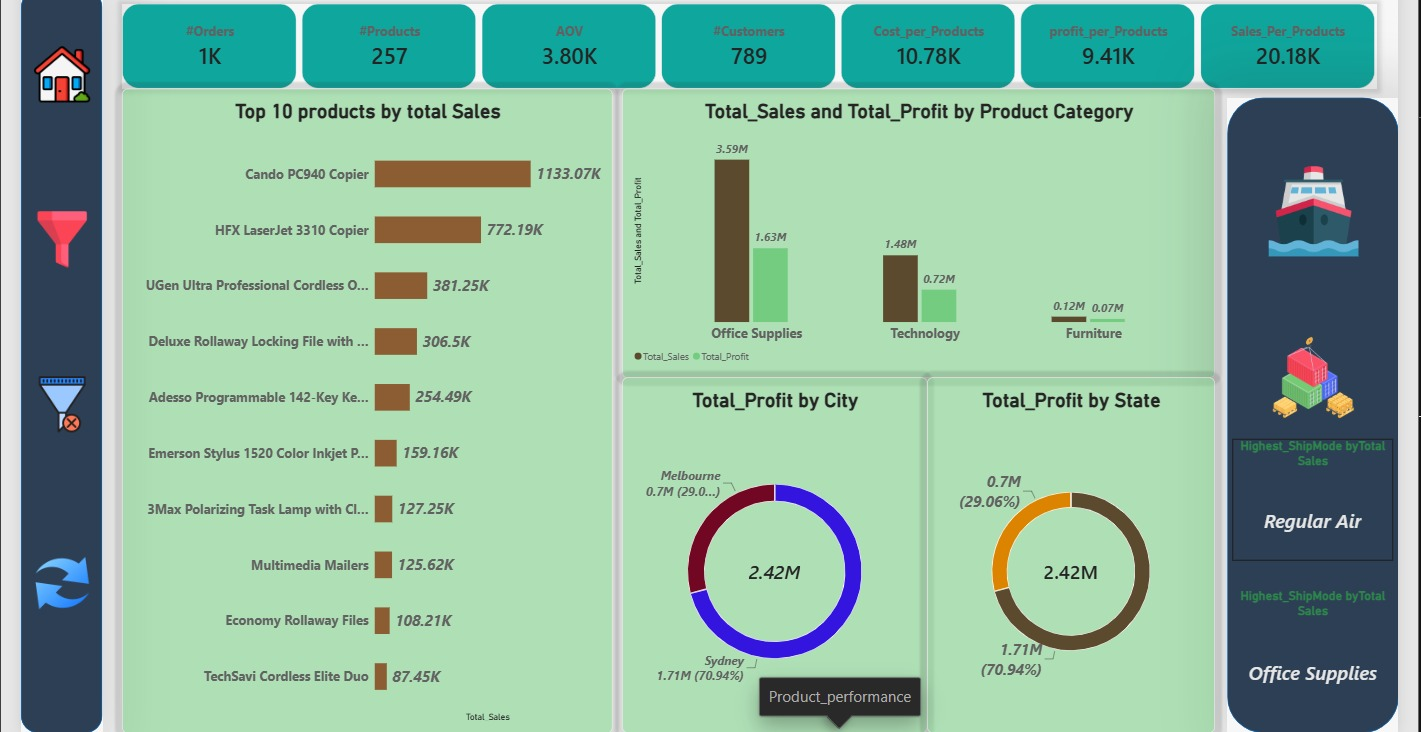

The dashboard page shown, as its layout file describes it:
{"tool":"powerbi","page":{"name":"Product_performance","canvas":[2000,1080],"ordinal":3},"visuals":[{"type":"shape","box":[0,0,118.1,1079.2],"z":0},{"type":"cardVisual","fields":{"Data":["Calculation.#Orders","Calculation.#Products","Calculation.AOV","Calculation.#Customers","Calculation.Cost_per_Products","Calculation.profit_per_Products","Calculation.Sales_Per_Products"]},"box":[147.2,20,1822.3,123.5],"z":1000},{"type":"clusteredBarChart","title":"Top 10 products by total Sales ","fields":{"Category":["Dim_Product.Product Name"],"Y":["Calculation.Total_Sales"]},"box":[147.2,143.5,712.2,935.7],"z":2000},{"type":"lineClusteredColumnComboChart","fields":{"Category":["Dim_Product.Product Category"],"Y":["Calculation.Total_Sales","Calculation.Total_Profit"]},"box":[873.9,143.5,861.2,419.7],"z":3000},{"type":"shape","box":[1751.5,156.3,248.9,923],"z":4000},{"type":"donutChart","fields":{"Category":["Dim_Location.City"],"Y":["Calculation.Total_Profit"]},"box":[873.9,563.2,443.3,516],"z":5000},{"type":"donutChart","fields":{"Category":["Dim_Location.State"],"Y":["Calculation.Total_Profit"]},"box":[1317.2,563.2,417.9,516],"z":6000},{"type":"cardVisual","title":"Highest_ShipMode byTotal Sales","fields":{"Data":["Calculation.highestShipmodeSales"]},"box":[1758.7,652.3,234.4,178.1],"z":9000},{"type":"cardVisual","title":"Highest_ShipMode byTotal Sales","fields":{"Data":["Calculation.highestpro_categorybySales"]},"box":[1758.7,870.3,234.4,185.3],"z":10000},{"type":"image","box":[1800.5,256.2,152.6,130.8],"z":11000},{"type":"image","box":[1800.5,503.3,152.6,119.9],"z":12000},{"type":"image","box":[18.2,321.6,83.6,81.8],"z":14500},{"type":"image","box":[12.7,561.4,94.5,81.8],"z":14750},{"type":"image","box":[18.2,81.8,83.6,81.8],"z":16000},{"type":"image","box":[12.7,821.2,94.5,81.8],"z":16500}]}

Visuals, with their boxes on the page's 2000x1080 design canvas (x1, y1, x2, y2). These are canvas units, not pixel positions in the 1421x732 screenshot, which may show the page scaled, cropped or inside an application window:
shape: select_region(0, 0, 118, 1079)
cardVisual - Calculation.#Orders x Calculation.#Products: select_region(147, 20, 1970, 144)
"Top 10 products by total Sales " clusteredBarChart: select_region(147, 144, 859, 1079)
lineClusteredColumnComboChart - Dim_Product.Product Category x Calculation.Total_Sales: select_region(874, 144, 1735, 563)
shape: select_region(1752, 156, 2000, 1079)
donutChart - Dim_Location.City x Calculation.Total_Profit: select_region(874, 563, 1317, 1079)
donutChart - Dim_Location.State x Calculation.Total_Profit: select_region(1317, 563, 1735, 1079)
"Highest_ShipMode byTotal Sales" cardVisual: select_region(1759, 652, 1993, 830)
"Highest_ShipMode byTotal Sales" cardVisual: select_region(1759, 870, 1993, 1056)
image: select_region(1800, 256, 1953, 387)
image: select_region(1800, 503, 1953, 623)
image: select_region(18, 322, 102, 403)
image: select_region(13, 561, 107, 643)
image: select_region(18, 82, 102, 164)
image: select_region(13, 821, 107, 903)
